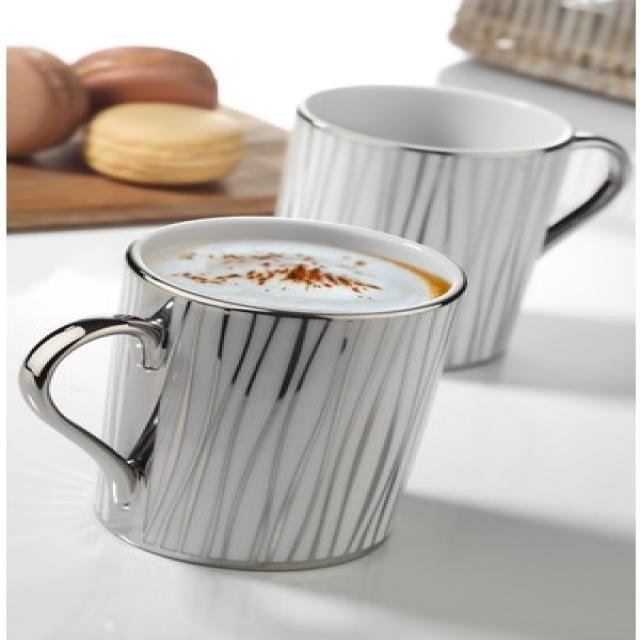Coffee Mug: (14, 215, 470, 574)
